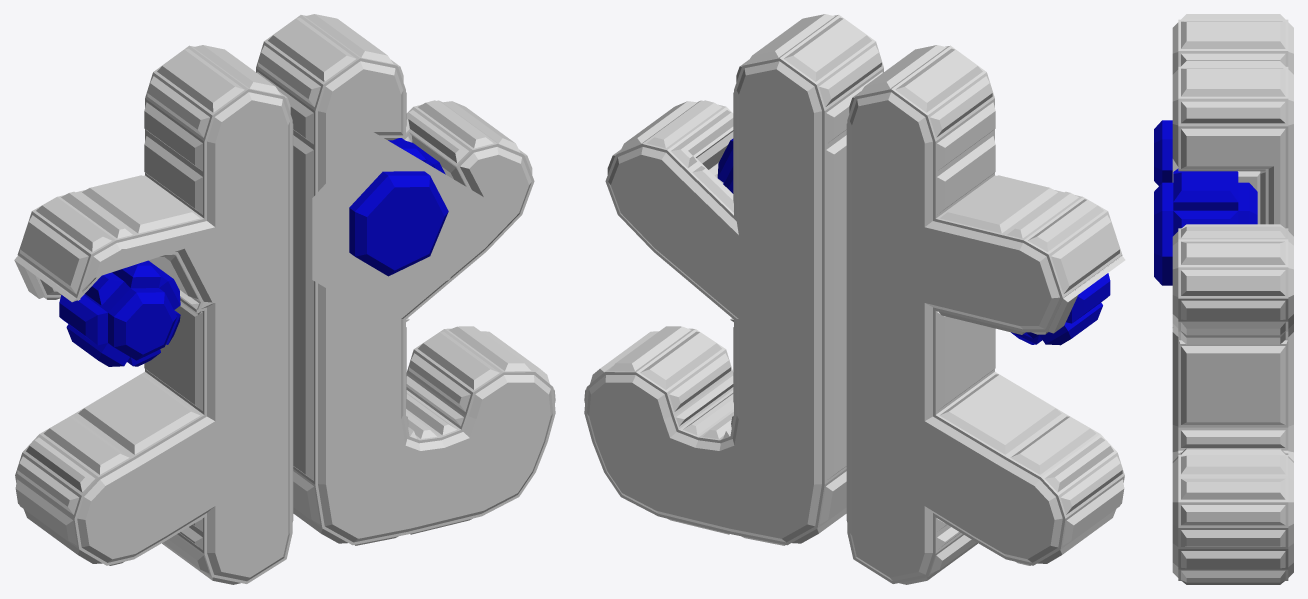
File: Ch_China_北_01.fbx
3 views of the same model, side by side, from view 1: azimuth 30°, elevation 25°; view 2: azimuth 150°, elevation 25°; view 3: azimuth 270°, elevation 25° (orthographic). The views are drawn at different scales.
Visible parts, largest first — view 1: sphere1; view 2: sphere1; view 3: sphere1.
Boxes of the visible parts, x1,y1,x2,y2 form: sphere1: [14, 14, 555, 584]; sphere1: [584, 14, 1125, 584]; sphere1: [1154, 14, 1293, 584].
Size of the model in its own units: 0.9508 by 0.9323 by 0.2541.
